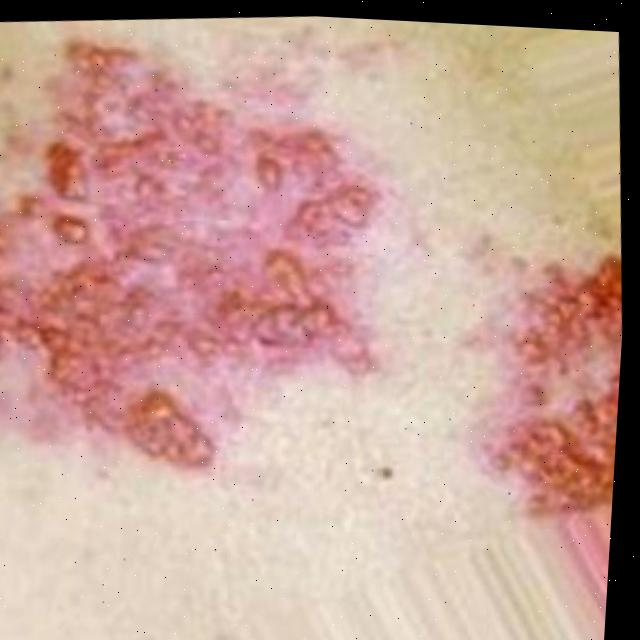Shingles: (0, 0, 640, 563)
